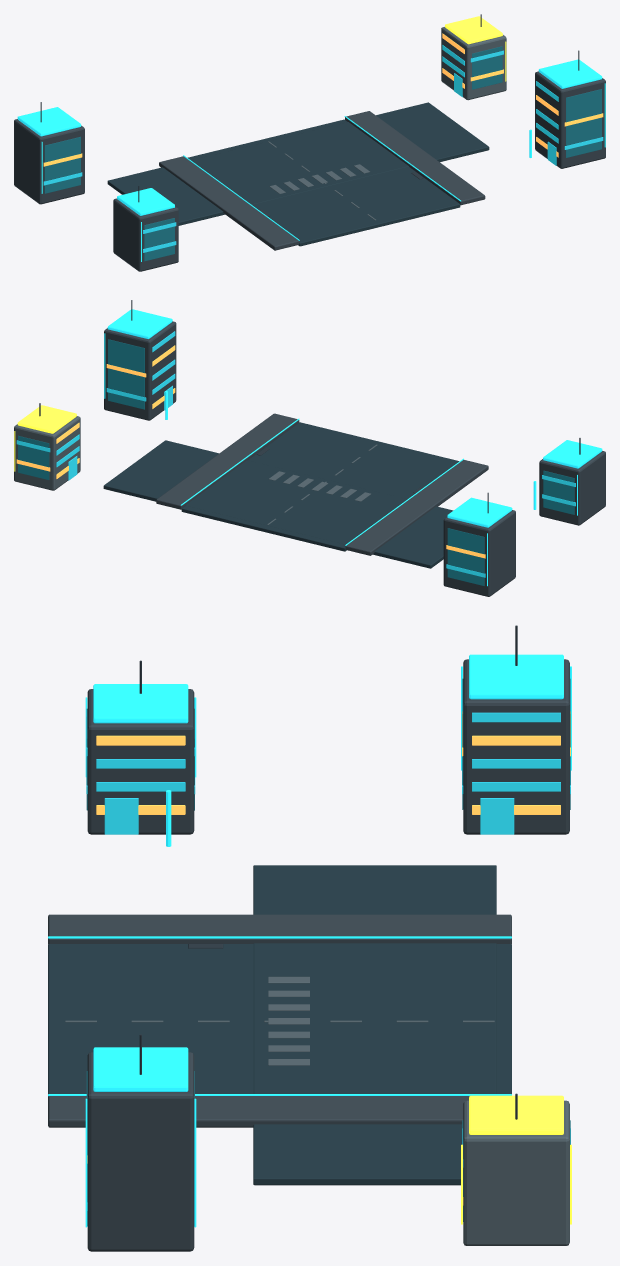
Rendered from t_junction_lod0.glb.
3 renders of one model, top to bottom at view 1: azimuth 30°, elevation 25°; view 2: azimuth 150°, elevation 25°; view 3: azimuth 270°, elevation 25°, orthographic. The views are drawn at different scales.
Parts seen in each view (by area): view 1: ND_Batch_ND_WetAsphalt, ND_Batch_ND_CityConcrete, ND_Batch_ND_RoadEdge, ND_Batch_ND_DarkGlass, ND_Batch_ND_CityCyanMuted, ND_Batch_ND_CityConcreteLight, ND_Batch_ND_NeonGlass, ND_Batch_ND_PackageGold, ND_Batch_ND_WarmWindow; view 2: ND_Batch_ND_WetAsphalt, ND_Batch_ND_CityConcrete, ND_Batch_ND_RoadEdge, ND_Batch_ND_DarkGlass, ND_Batch_ND_CityCyanMuted, ND_Batch_ND_CityConcreteLight, ND_Batch_ND_NeonGlass, ND_Batch_ND_PackageGold, ND_Batch_ND_WarmWindow; view 3: ND_Batch_ND_WetAsphalt, ND_Batch_ND_CityConcrete, ND_Batch_ND_RoadEdge, ND_Batch_ND_CityCyanMuted, ND_Batch_ND_CityConcreteLight, ND_Batch_ND_NeonGlass, ND_Batch_ND_PackageGold, ND_Batch_ND_WarmWindow, ND_Batch_ND_DarkGlass.
Boxes of the visible parts, <box> form: ND_Batch_ND_WetAsphalt: <box>107,102,489,246</box>; ND_Batch_ND_CityConcrete: <box>14,71,605,271</box>; ND_Batch_ND_RoadEdge: <box>159,111,485,250</box>; ND_Batch_ND_DarkGlass: <box>44,46,601,261</box>; ND_Batch_ND_CityCyanMuted: <box>17,59,605,261</box>; ND_Batch_ND_CityConcreteLight: <box>268,27,506,220</box>; ND_Batch_ND_NeonGlass: <box>43,45,603,252</box>; ND_Batch_ND_PackageGold: <box>445,16,506,81</box>; ND_Batch_ND_WarmWindow: <box>43,33,603,166</box>; ND_Batch_ND_WetAsphalt: <box>103,422,459,568</box>; ND_Batch_ND_CityConcrete: <box>104,321,605,596</box>; ND_Batch_ND_RoadEdge: <box>156,413,488,555</box>; ND_Batch_ND_DarkGlass: <box>18,339,574,585</box>; ND_Batch_ND_CityCyanMuted: <box>104,309,602,586</box>; ND_Batch_ND_CityConcreteLight: <box>14,416,377,524</box>; ND_Batch_ND_NeonGlass: <box>16,331,575,577</box>; ND_Batch_ND_PackageGold: <box>14,405,76,471</box>; ND_Batch_ND_WarmWindow: <box>16,345,485,558</box>; ND_Batch_ND_WetAsphalt: <box>48,865,511,1185</box>; ND_Batch_ND_CityConcrete: <box>87,659,569,1251</box>; ND_Batch_ND_RoadEdge: <box>48,914,511,1127</box>; ND_Batch_ND_CityCyanMuted: <box>48,654,571,1227</box>; ND_Batch_ND_CityConcreteLight: <box>65,976,569,1245</box>; ND_Batch_ND_NeonGlass: <box>86,712,570,1210</box>; ND_Batch_ND_PackageGold: <box>461,1095,571,1224</box>; ND_Batch_ND_WarmWindow: <box>87,711,570,1205</box>; ND_Batch_ND_DarkGlass: <box>86,678,570,1225</box>.
Bounding box in the file's own units: 47.1 × 10.03 × 22.59.
